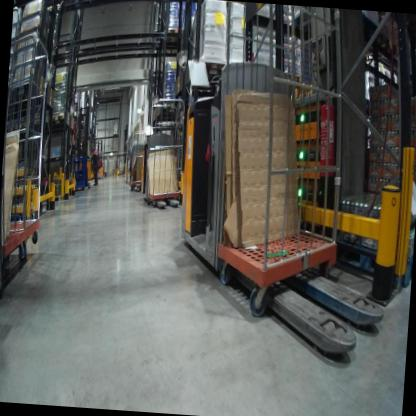forklift: (65, 98, 100, 185), (92, 133, 109, 186)
pallet: (9, 79, 46, 107), (159, 26, 181, 53), (201, 59, 229, 74), (32, 112, 51, 129), (48, 110, 69, 125), (50, 189, 64, 204), (16, 118, 33, 130), (6, 122, 18, 135)
pallet_truck: (162, 74, 404, 367), (132, 115, 200, 207), (122, 137, 148, 194)
